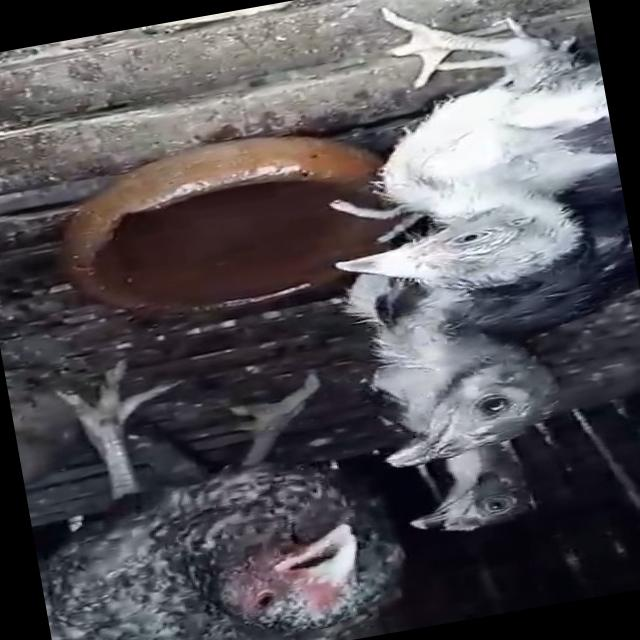Breathing: (7, 314, 494, 640)
